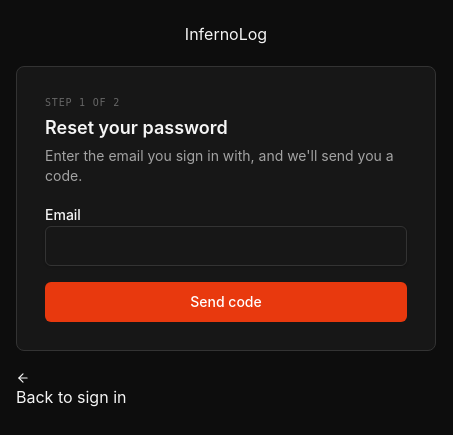
Scenario: ForgotPasswordPage › rejects an invalid email before asking Cognito
This screenshot has width=453, height=435.
Type "nope" into the field labelled "Email" at (226, 246), box [45,226,407,266]
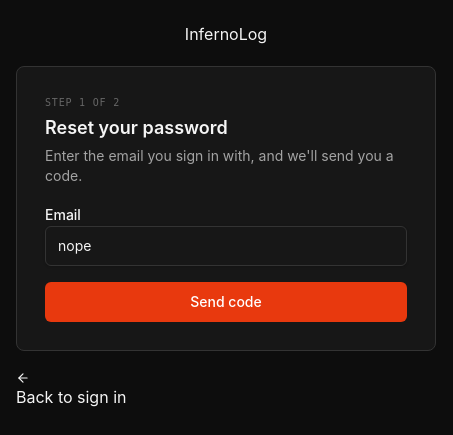
Click the button "Send code" at (226, 302), box [45,282,407,322]
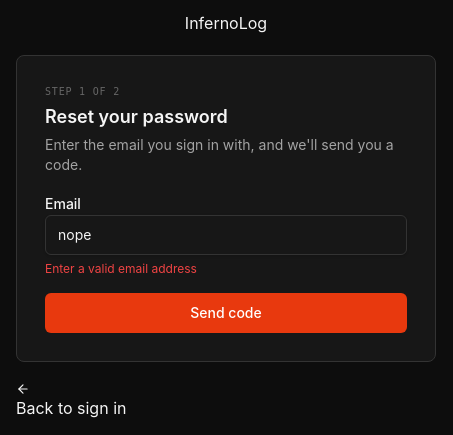
Result: the text "Enter a valid email address" is shown at [45,260,197,276]
